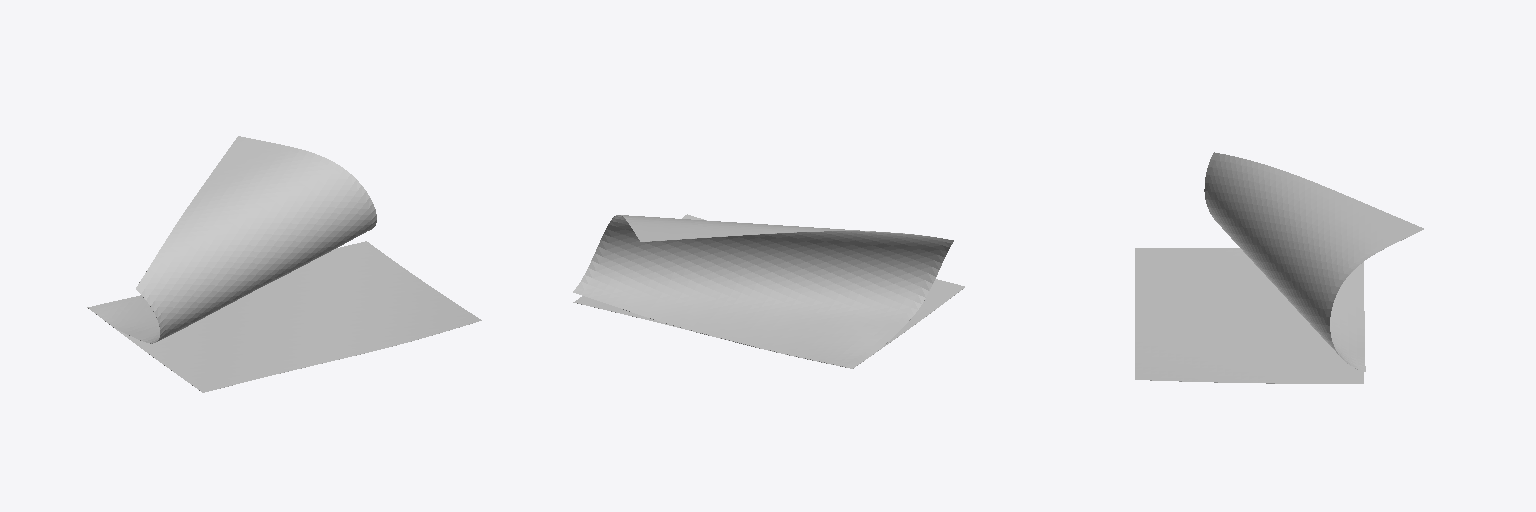
The picture shows the model from 3 angles: view 1: azimuth 30°, elevation 25°; view 2: azimuth 150°, elevation 25°; view 3: azimuth 270°, elevation 25°; orthographic projection.
Parts seen in each view (by area): view 1: a4-sheet; view 2: a4-sheet; view 3: a4-sheet.
Boxes of the visible parts, box(x1,y1,x2,y2) form: a4-sheet: box(87, 136, 481, 392); a4-sheet: box(573, 214, 964, 368); a4-sheet: box(1135, 152, 1423, 383).
Bounding box in the file's own units: 0.3254 × 0.1085 × 0.2662.